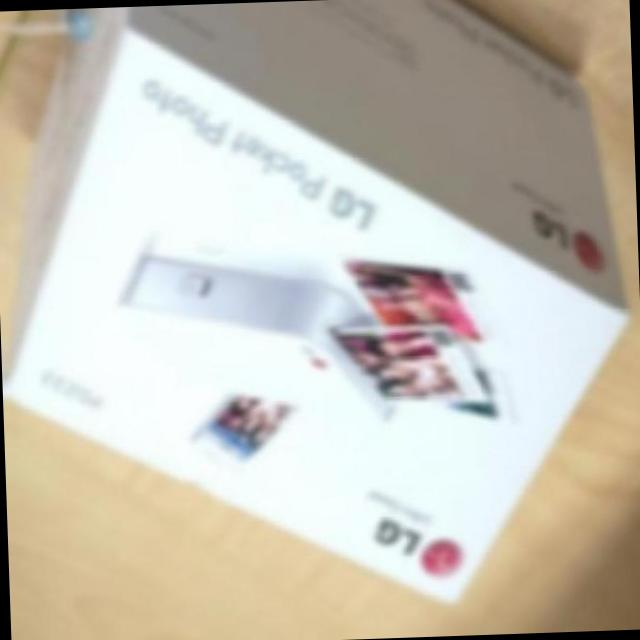box: (0, 0, 632, 602)
